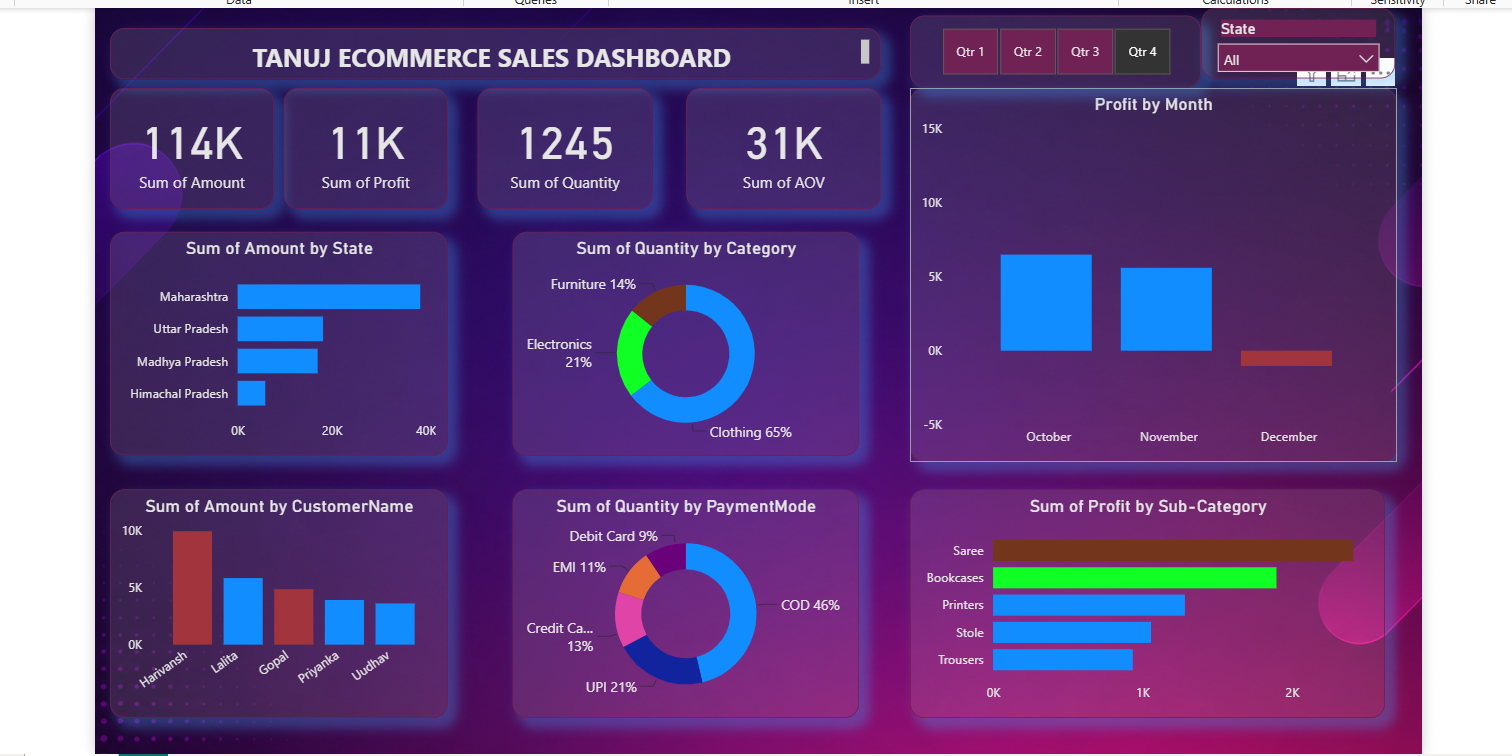

This screenshot's page, from the dashboard's own definition file:
{"tool":"powerbi","page":{"name":"Page 1","canvas":[1280,720],"ordinal":0},"visuals":[{"type":"textbox","box":[14.5,19.3,744.4,49.5],"z":0},{"type":"columnChart","title":" Profit by Month","fields":{"Y":["Sum(Details.Profit)"],"Category":["Orders.Order Date.Variation.Date Hierarchy.Month"]},"box":[786.6,77.2,469.3,360.7],"z":1000},{"type":"barChart","fields":{"Category":["Details.Sub-Category"],"Y":["Sum(Details.Profit)"]},"box":[786.6,464.5,458.4,220.8],"z":2000},{"type":"donutChart","fields":{"Category":["Details.Category"],"Y":["Sum(Details.Quantity)"]},"box":[403,216,334.2,216],"z":3000},{"type":"donutChart","fields":{"Category":["Details.PaymentMode"],"Y":["Sum(Details.Quantity)"]},"box":[403,464.5,334.2,220.8],"z":4000},{"type":"card","fields":{"Values":["Sum(Details.Amount)"]},"box":[14.5,77.2,158,117],"z":5000},{"type":"card","fields":{"Values":["Sum(Details.Quantity)"]},"box":[369.2,77.2,168.9,117],"z":6000},{"type":"card","fields":{"Values":["Sum(Details.Profit)"]},"box":[182.2,77.2,158,117],"z":7000},{"type":"card","fields":{"Values":["Sum(Details.AOV)"]},"box":[570.6,77.2,188.2,117],"z":8000},{"type":"barChart","fields":{"Y":["Sum(Details.Amount)"],"Category":["Orders.State"]},"box":[14.5,216,325.7,216],"z":9000},{"type":"columnChart","fields":{"Category":["Orders.CustomerName"],"Y":["Sum(Details.Amount)"]},"box":[14.5,464.5,325.7,220.8],"z":10000},{"type":"slicer","fields":{"Values":["Orders.Order Date.Variation.Date Hierarchy.Quarter"]},"box":[786.6,7.2,281.1,70],"z":11000},{"type":"slicer","fields":{"Values":["Orders.State"]},"box":[1067.6,0,187.6,67.8],"z":12000}]}

Visuals, with their boxes on the page's 1280x720 design canvas (x1, y1, x2, y2). These are canvas units, not pixel positions in the 1512x756 screenshot, which may show the page scaled, cropped or inside an application window:
textbox: select_region(14, 19, 759, 69)
" Profit by Month" columnChart: select_region(787, 77, 1256, 438)
barChart - Details.Sub-Category x Sum(Details.Profit): select_region(787, 464, 1245, 685)
donutChart - Details.Category x Sum(Details.Quantity): select_region(403, 216, 737, 432)
donutChart - Details.PaymentMode x Sum(Details.Quantity): select_region(403, 464, 737, 685)
card - Sum(Details.Amount): select_region(14, 77, 172, 194)
card - Sum(Details.Quantity): select_region(369, 77, 538, 194)
card - Sum(Details.Profit): select_region(182, 77, 340, 194)
card - Sum(Details.AOV): select_region(571, 77, 759, 194)
barChart - Sum(Details.Amount) x Orders.State: select_region(14, 216, 340, 432)
columnChart - Orders.CustomerName x Sum(Details.Amount): select_region(14, 464, 340, 685)
slicer - Orders.Order Date.Variation.Date Hierarchy.Quarter: select_region(787, 7, 1068, 77)
slicer - Orders.State: select_region(1068, 0, 1255, 68)
